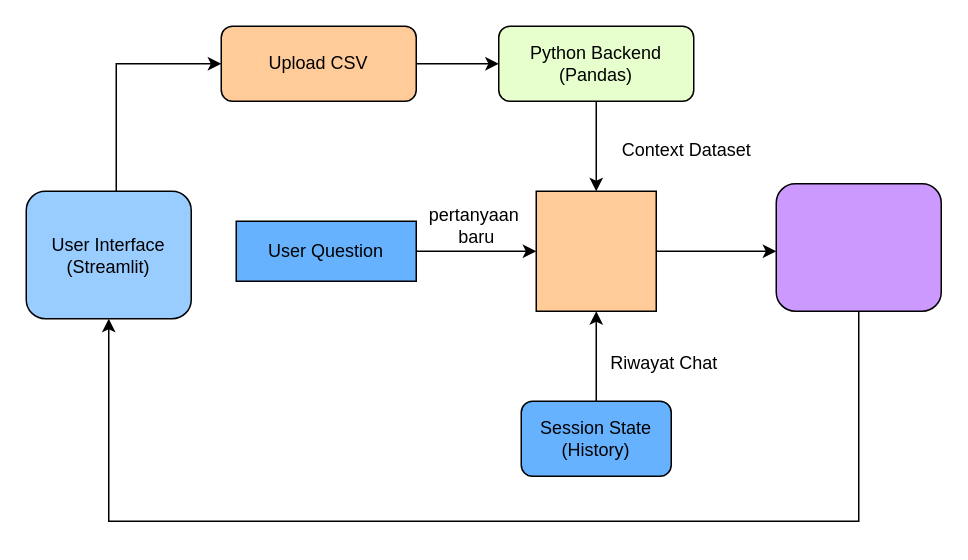
The diagram is 968 pixels wide and 560 high, and some of its shapes have lost their labels. Here are the shapes that lost their labels. From the top down, the centre of each, then its label:
At point (595, 250): "Prompt Engineering Engine".
At point (858, 246): "LLM: Google Gemini API (gemini-2.5-flash)".
